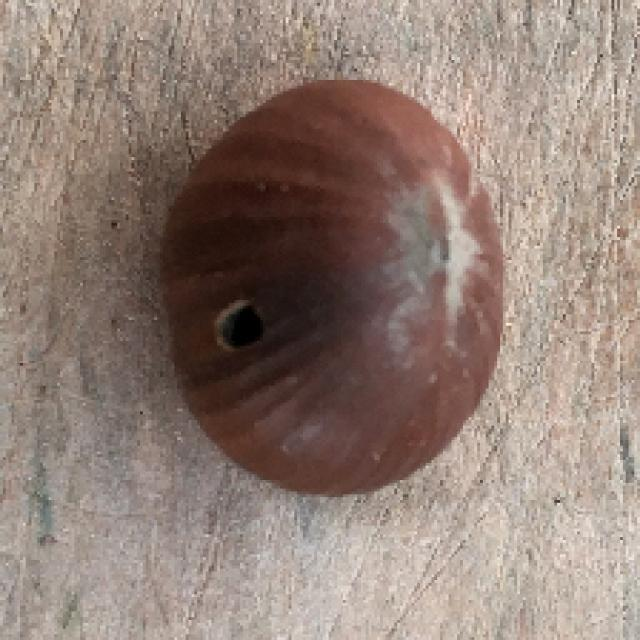damagedHazelnut: (154, 80, 515, 494)
